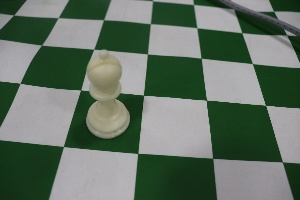white_bishop: (74, 31, 134, 147)
